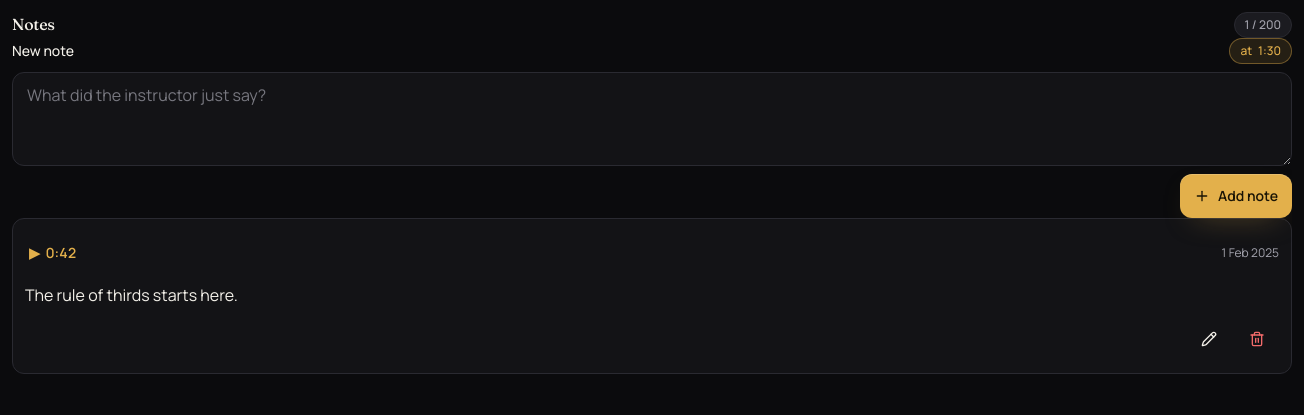
Test: NotesPanel › refuses an empty note
The width and height of the screenshot is (1304, 415).
Click the button "Add note" at [1236, 196], box [1180,174,1292,218]
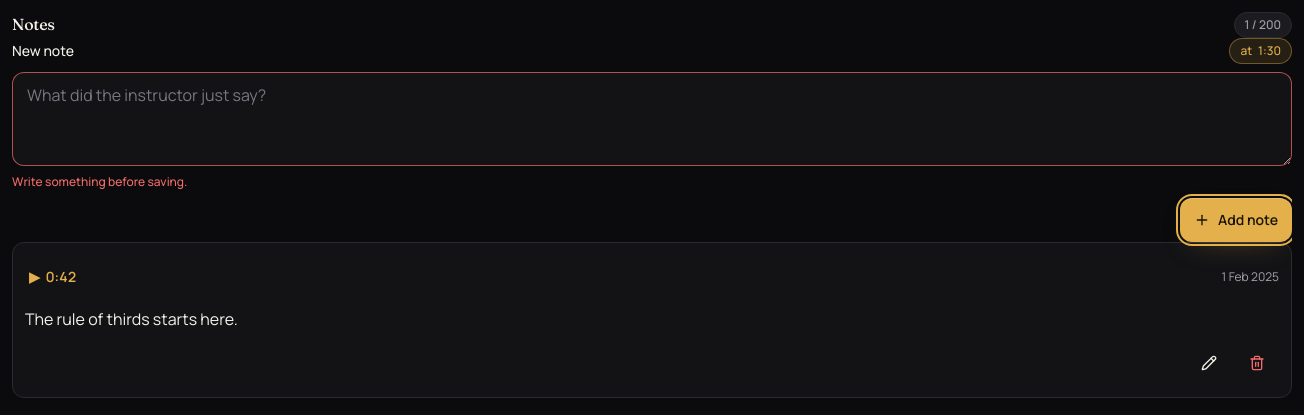
Expected: the message reads "Write something before saving.", [12,173,187,190]
